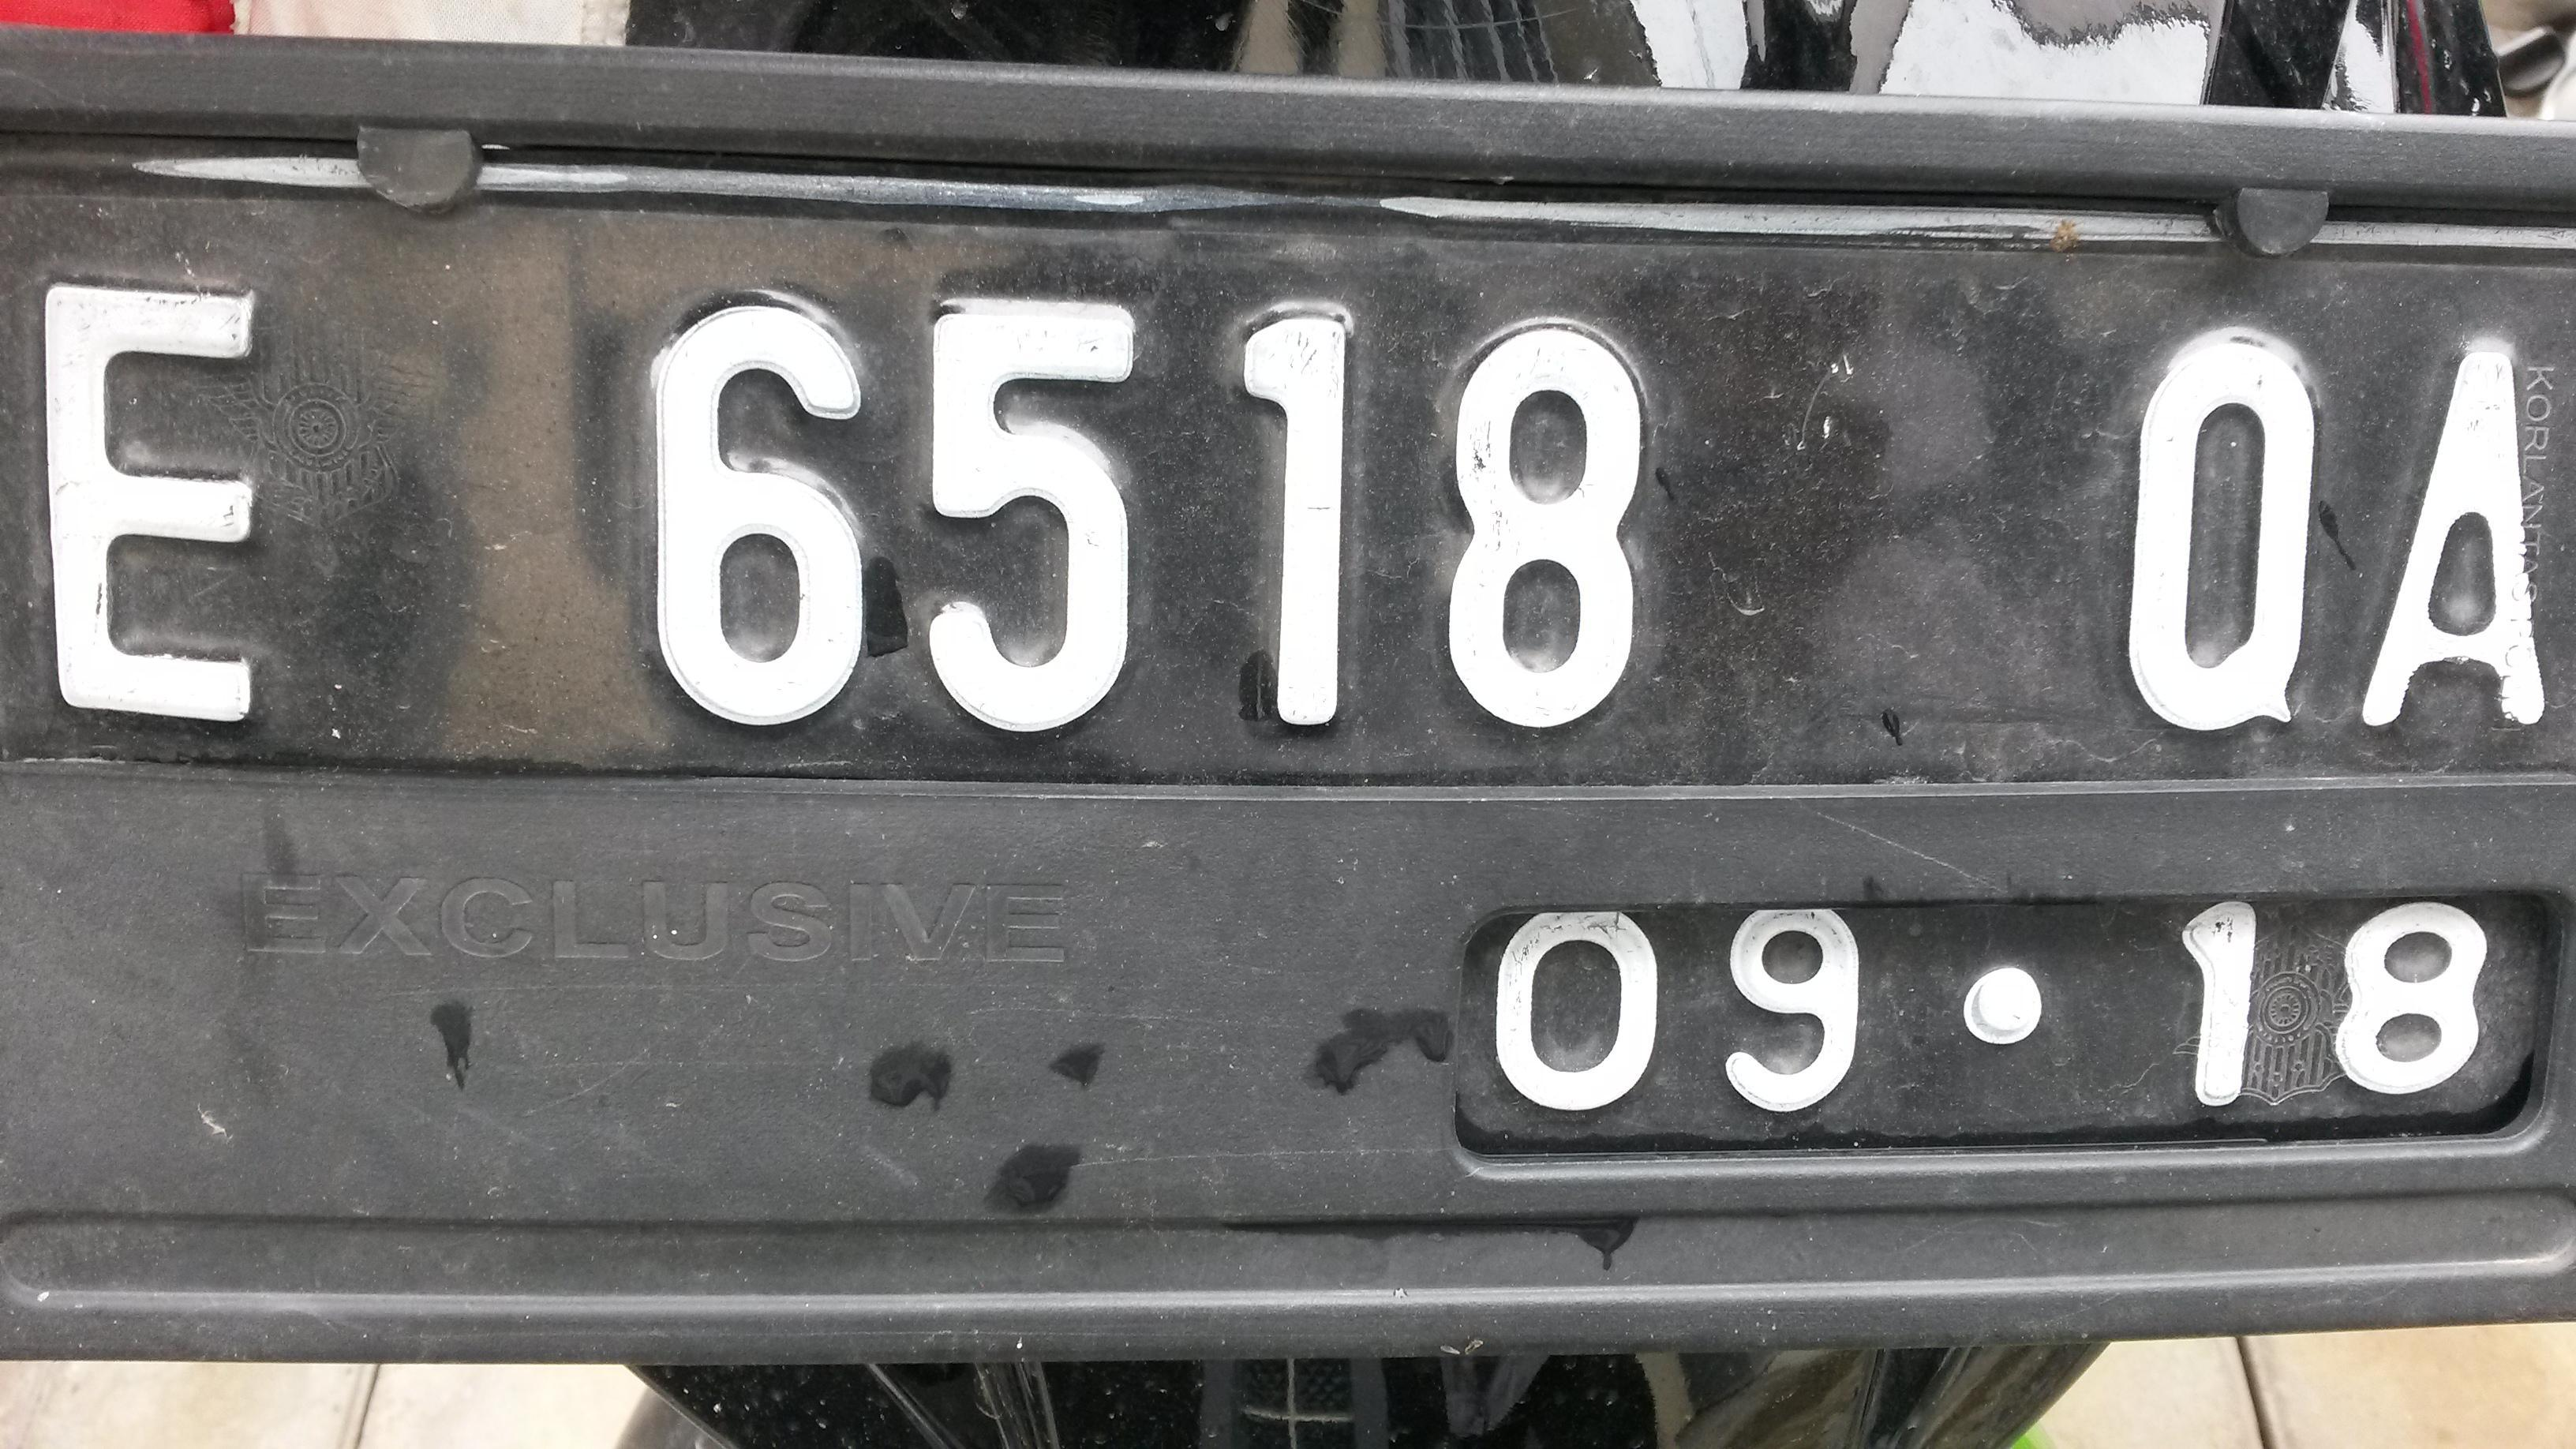clone-license-plate: (6, 135, 2575, 1181)
